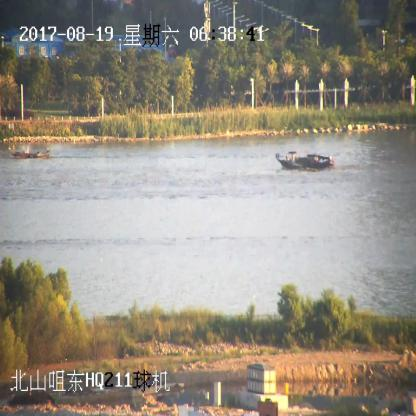Fishing Boat: (276, 150, 334, 170), (9, 145, 50, 160)
